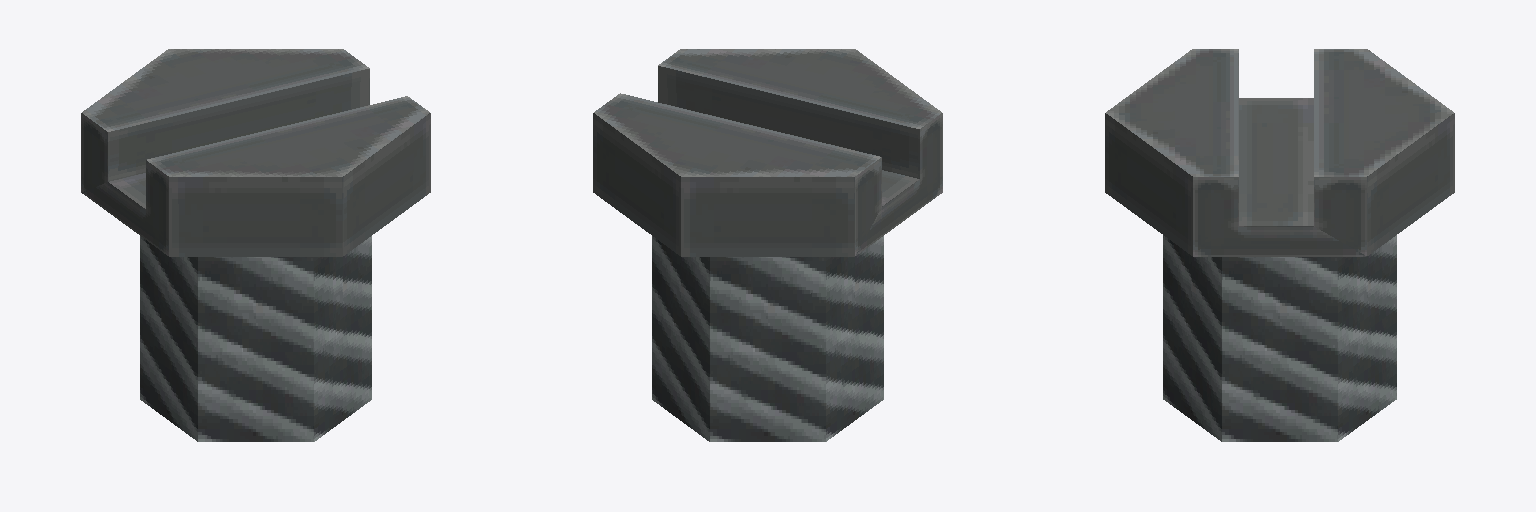
3 renders of one model, left to right at view 1: azimuth 30°, elevation 25°; view 2: azimuth 150°, elevation 25°; view 3: azimuth 270°, elevation 25°, orthographic.
Visible parts, largest first — view 1: Object01, Object02; view 2: Object01, Object02; view 3: Object01, Object02.
Boxes of the visible parts, <box> form: Object01: <box>81,49,430,256</box>; Object02: <box>140,236,371,441</box>; Object01: <box>593,49,942,256</box>; Object02: <box>652,236,883,441</box>; Object01: <box>1105,49,1454,256</box>; Object02: <box>1163,235,1396,441</box>.
Size of the model in its own units: 11.1 by 11.61 by 12.82.
2 materials, 2 textured.